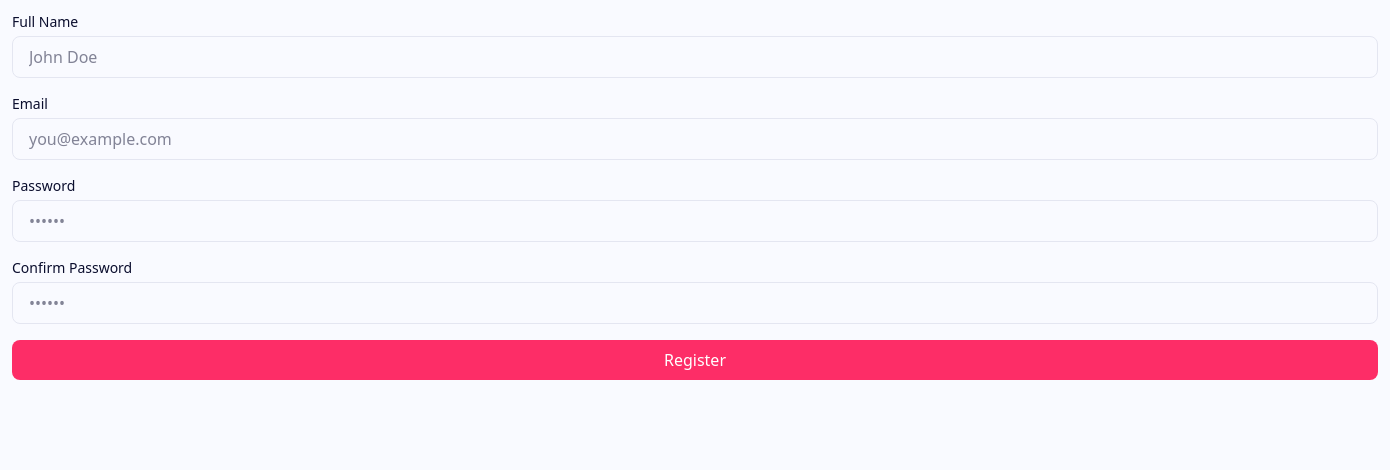
Test case: RegisterForm › Form Validation - Full Name › should display error for full name with less than 2 characters
Type "J" into the field with placeholder "John Doe". click: (695, 57)
box: [12,36,1378,78]
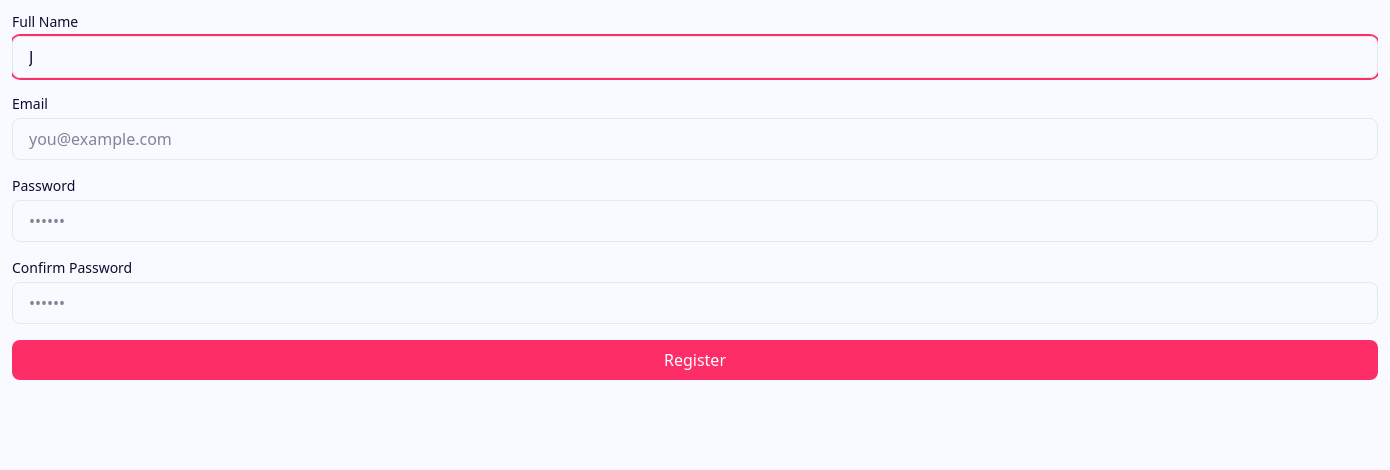
Click the button "Register". click: click(695, 360)
box: [12,340,1378,380]
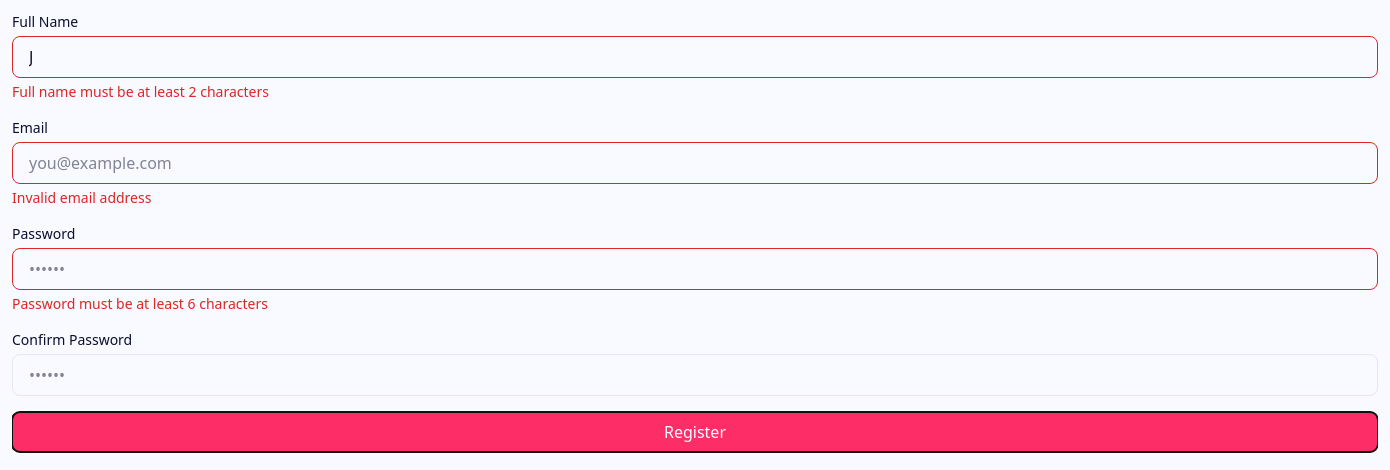
Check: the text "Full name must be at least 2 characters" is shown, box [12,82,269,101]
